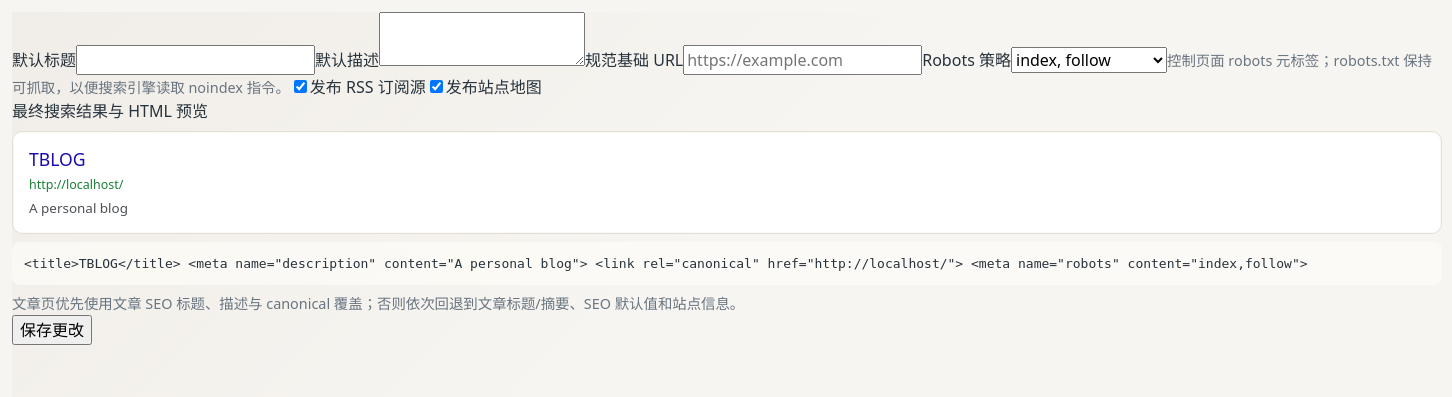
Test: SettingsDomainPanel › falls back to a generic message for a non-validation save failure
The width and height of the screenshot is (1452, 397).
Click the button with test id "settings-save": (52, 330) [12,315,92,345]
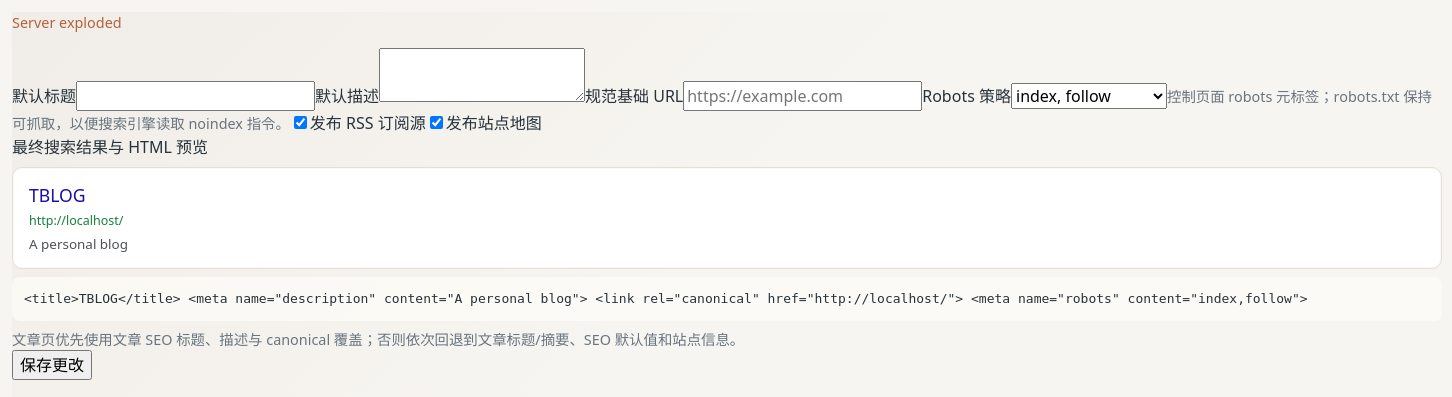
Expected: the message with test id "settings-save-error" reads "Server exploded", [12,13,122,32]
